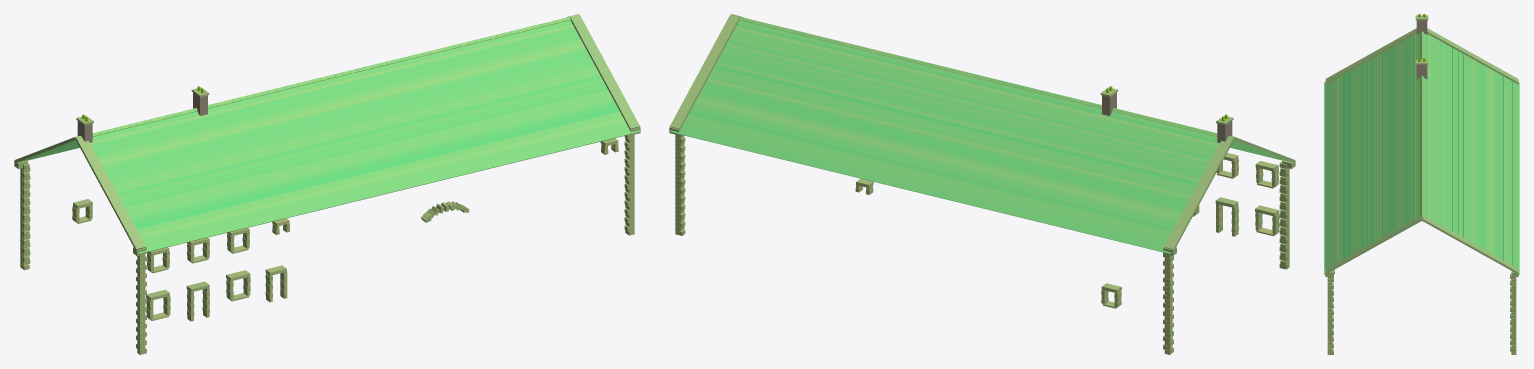
The model's file is SM_Bld_050_Stone.glb.
3 renders of one model, left to right at view 1: azimuth 30°, elevation 25°; view 2: azimuth 150°, elevation 25°; view 3: azimuth 270°, elevation 25°, orthographic. The views are drawn at different scales.
Parts seen in each view (by area): view 1: SM_Bld_050_Stone; view 2: SM_Bld_050_Stone; view 3: SM_Bld_050_Stone.
Boxes of the visible parts, left/top/right/bottom form: SM_Bld_050_Stone: left=14, top=14, right=640, bottom=354; SM_Bld_050_Stone: left=669, top=14, right=1295, bottom=354; SM_Bld_050_Stone: left=1324, top=14, right=1519, bottom=354.
Bounding box in the file's own units: 37.72 × 13.86 × 16.11.
